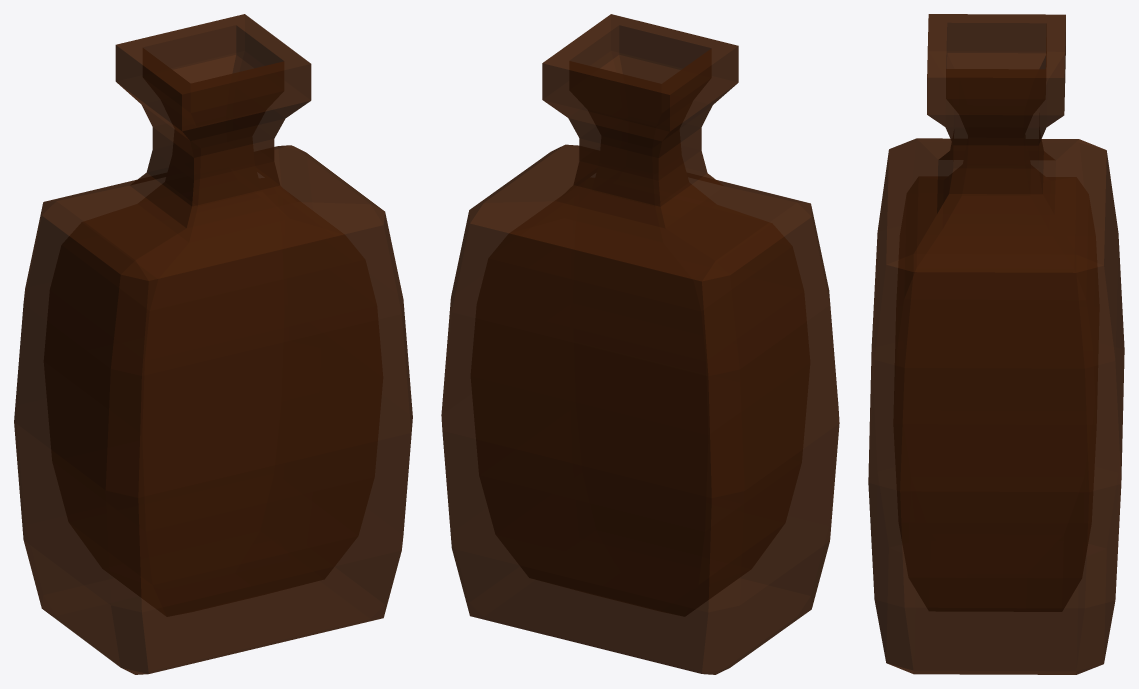
Rendered from Bottle_A.fbx.
The picture shows the model from 3 angles, left to right: view 1: azimuth 30°, elevation 25°; view 2: azimuth 150°, elevation 25°; view 3: azimuth 270°, elevation 25°; orthographic projection.
Visible parts, largest first — view 1: Bottle_A; view 2: Bottle_A; view 3: Bottle_A.
Part boxes in pixels (x1,y1,x2,y2): Bottle_A: [14, 14, 412, 674]; Bottle_A: [441, 14, 839, 674]; Bottle_A: [868, 14, 1124, 674].
Bounding box in the file's own units: 466 × 816 × 332.
